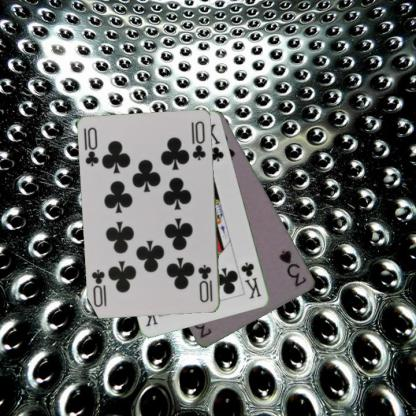10c: (82, 125, 100, 168), (196, 262, 214, 304)
3s: (276, 248, 308, 288)
Kc: (239, 260, 263, 300)
